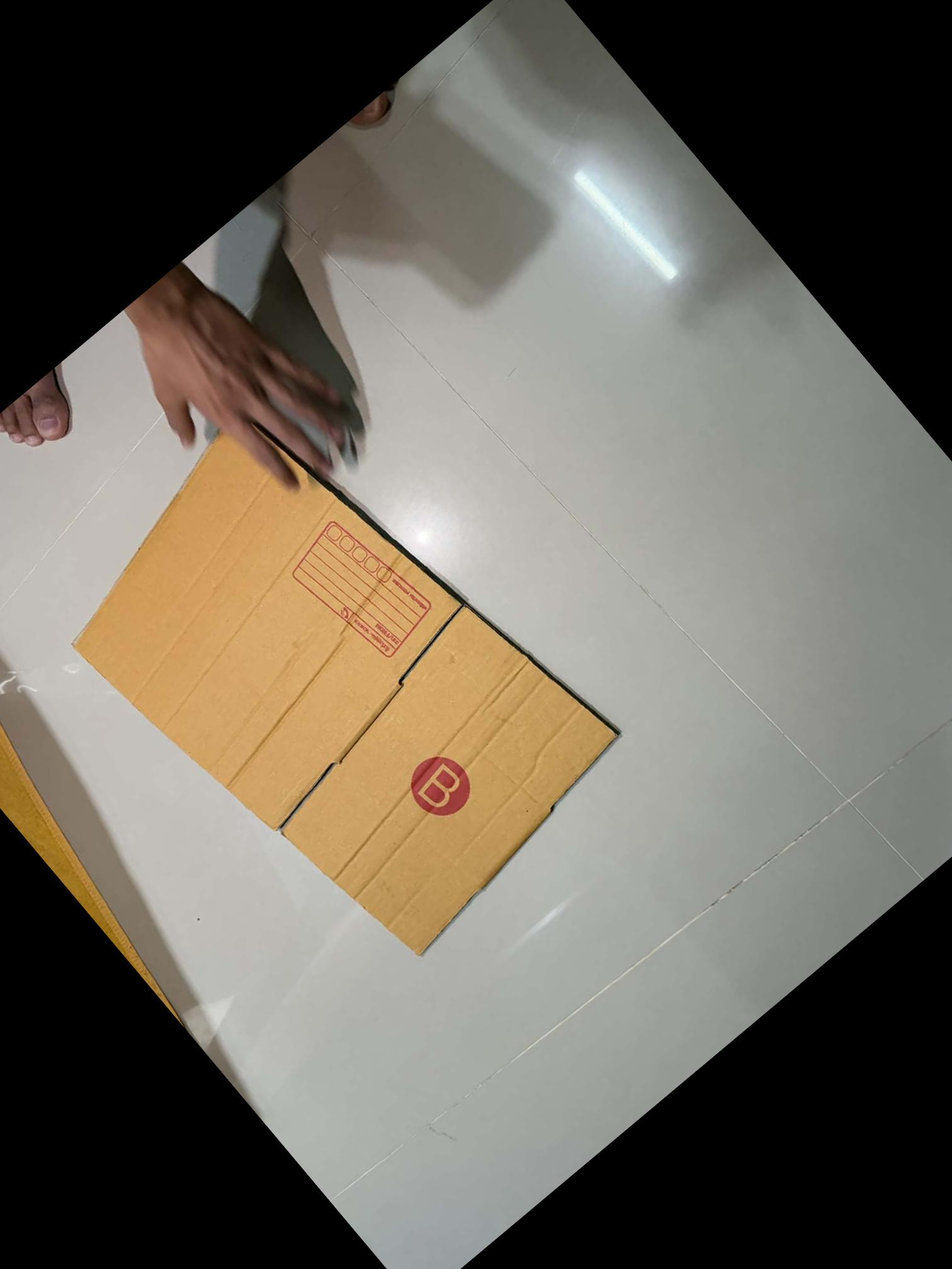box: (276, 504, 445, 681), (391, 736, 488, 834)
class0: (2, 336, 666, 1021)
